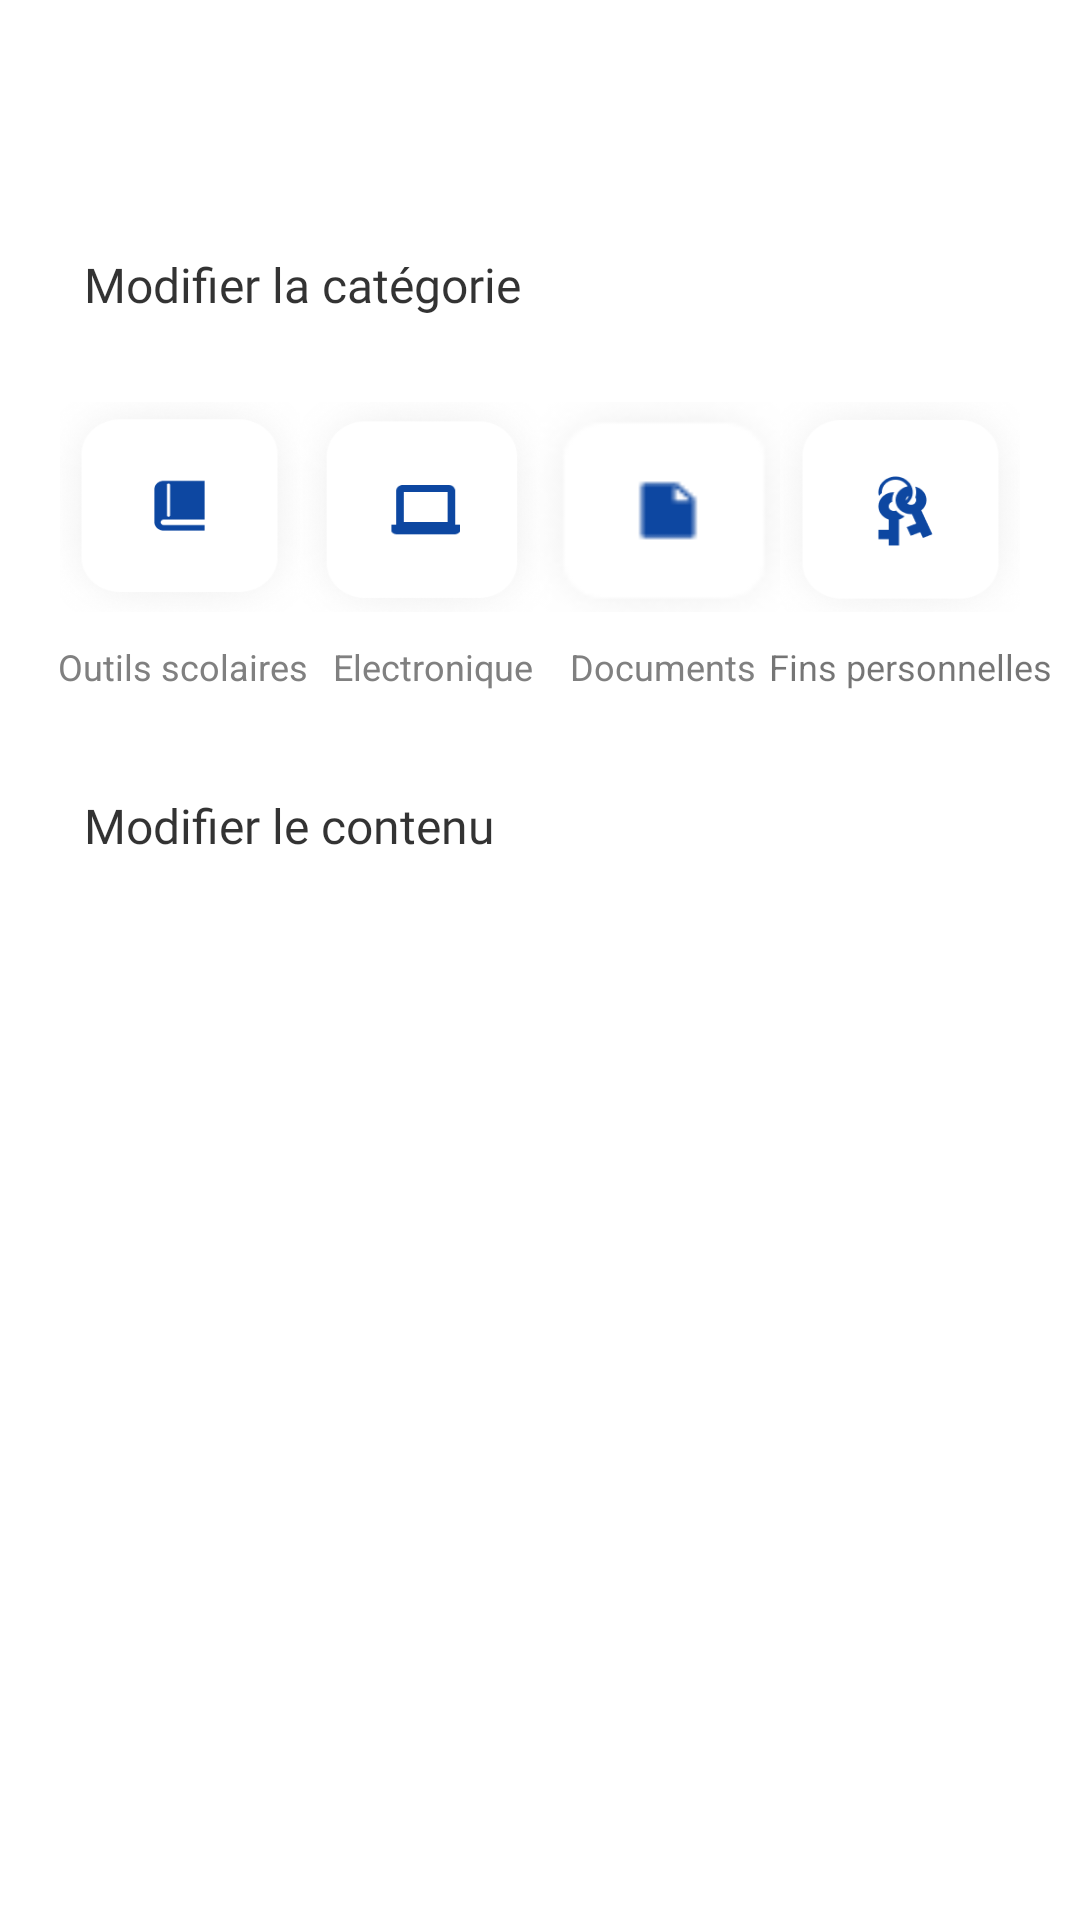

Icon click points for this 1080px×1920px phone screenshot, format (x,y):
doc adm: (668,510)
elect adm: (425,510)
